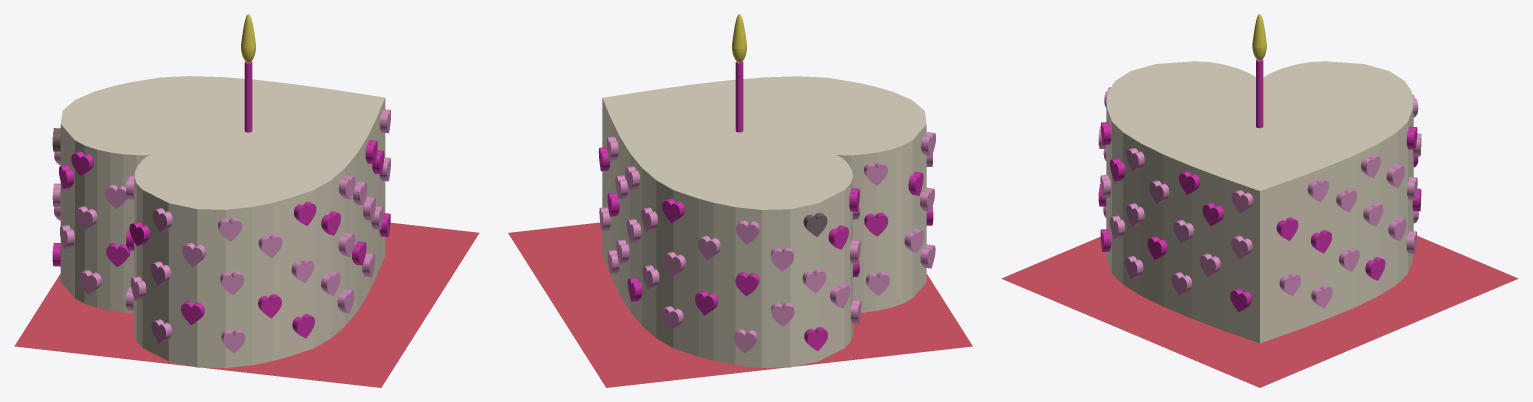
The model's file is vanilla.glb.
3 renders of one model, left to right at view 1: azimuth 30°, elevation 25°; view 2: azimuth 150°, elevation 25°; view 3: azimuth 270°, elevation 25°, orthographic. The views are drawn at different scales.
Parts seen in each view (by area): view 1: Mesh_Mesh_head_geo.001_lambert2SG.001; view 2: Mesh_Mesh_head_geo.001_lambert2SG.001; view 3: Mesh_Mesh_head_geo.001_lambert2SG.001.
Boxes of the visible parts, x1,y1,x2,y2 form: Mesh_Mesh_head_geo.001_lambert2SG.001: (14,14,479,387); Mesh_Mesh_head_geo.001_lambert2SG.001: (508,14,972,387); Mesh_Mesh_head_geo.001_lambert2SG.001: (1001,14,1518,387).
Size of the model in its own units: 0.0354 by 0.02 by 0.0354.
